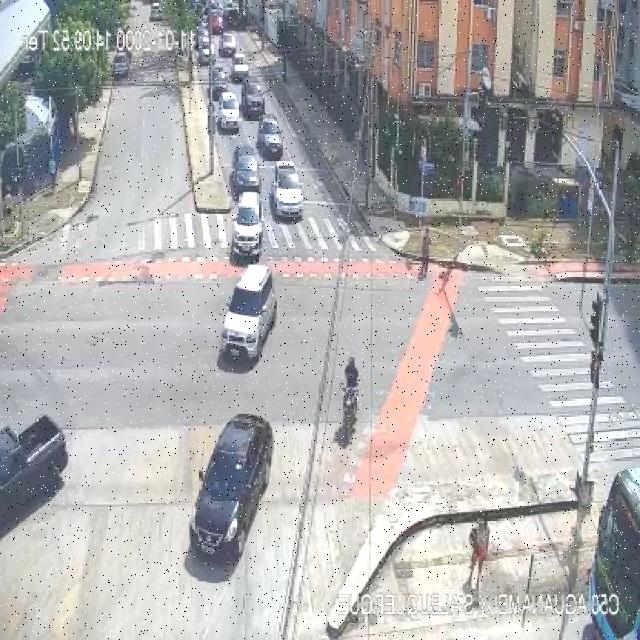bus: (586, 466, 640, 640)
car: (188, 412, 274, 557), (1, 408, 68, 524), (220, 264, 278, 364), (232, 190, 266, 258), (271, 160, 304, 220), (230, 148, 262, 188), (259, 116, 284, 156), (218, 91, 242, 131), (242, 78, 267, 115), (210, 65, 228, 98), (232, 52, 248, 80), (200, 40, 216, 66), (220, 36, 237, 56), (115, 53, 128, 75), (196, 28, 210, 48), (149, 4, 162, 22), (227, 10, 240, 27), (212, 14, 222, 31)
motorbike: (466, 512, 489, 592), (340, 354, 358, 448), (418, 228, 432, 276), (2, 184, 16, 230), (352, 132, 362, 172), (48, 152, 57, 192), (188, 59, 194, 82)
